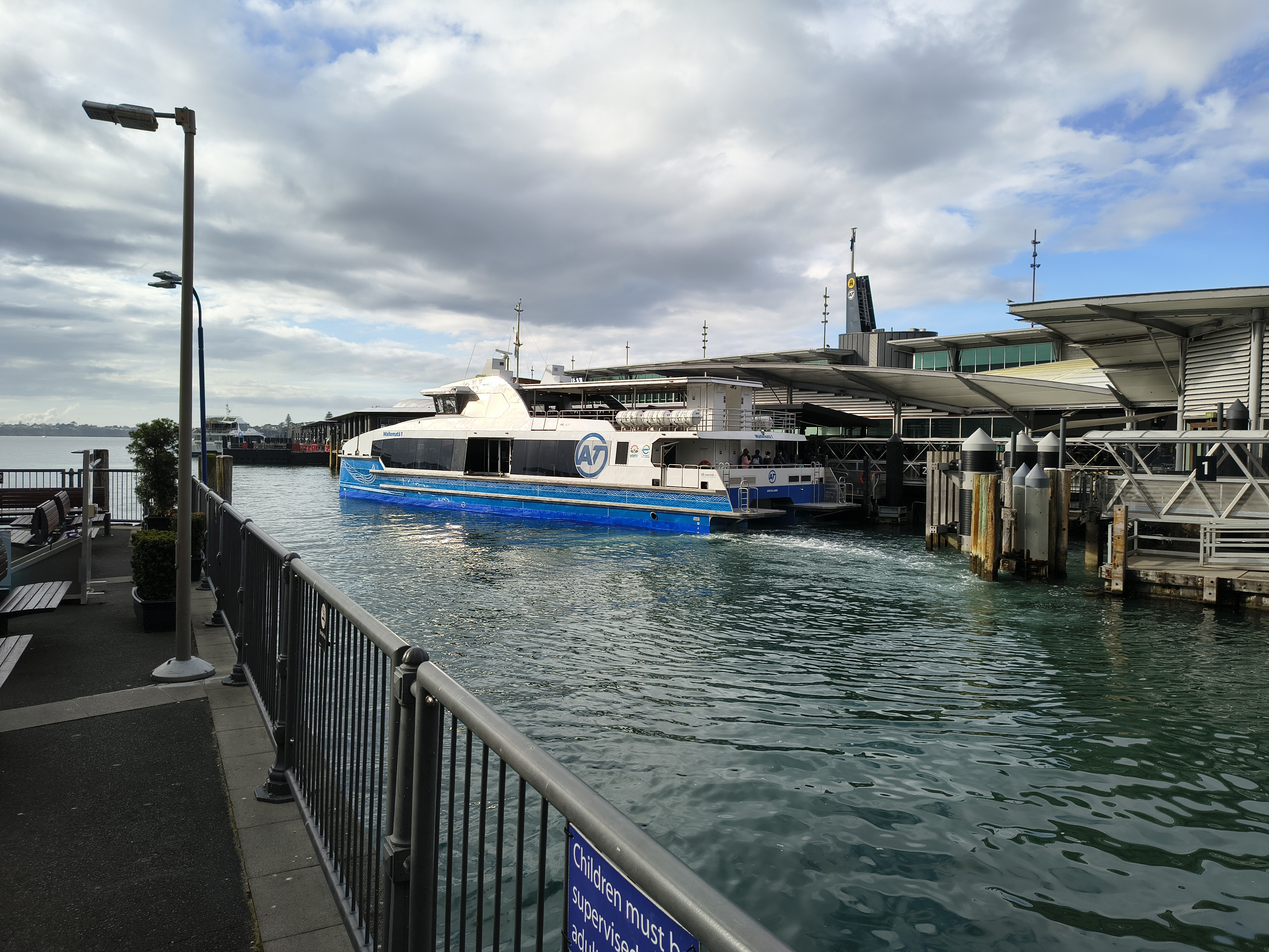ferry: (338, 359, 864, 536)
